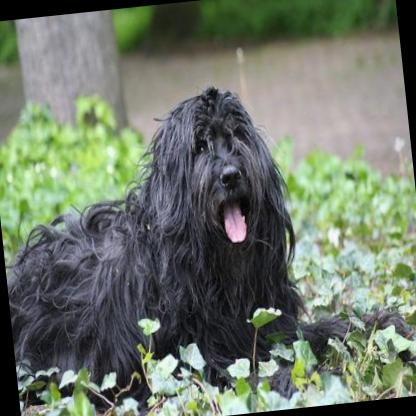briard: (0, 66, 416, 416)
